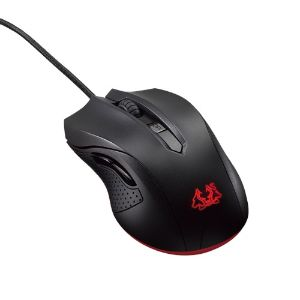mouse: (54, 65, 253, 260)
